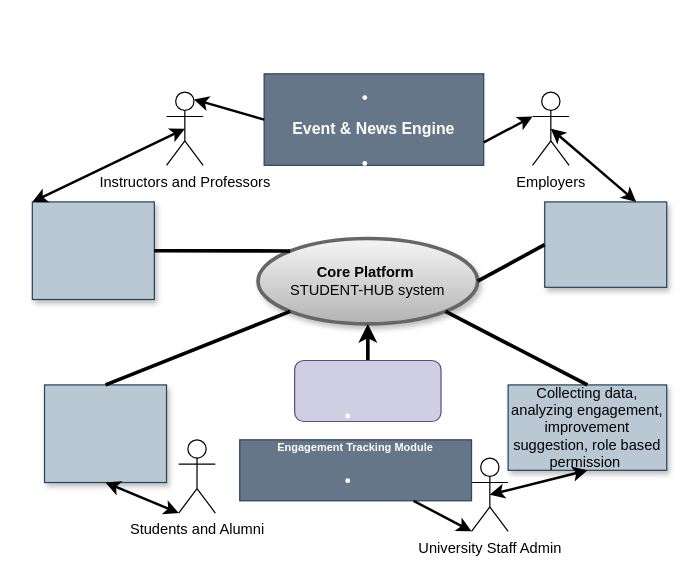
Some shapes in this 695 by 578 pixel diagram are drawn without their labels. Each missing label, with the centre of its shape:
"- AI Mentorship Matching, - Possible Donor identification" belongs at (94,252).
"Candidate identifier, Ai analysis, easy applicant tracing" belongs at (606,246).
"Skills, Job match, self improvements, task monitoring, events, news" belongs at (106,435).
"User Friendly UI and Navigation Responsive Design for Desktop and Mobile usage" belongs at (367,390).
